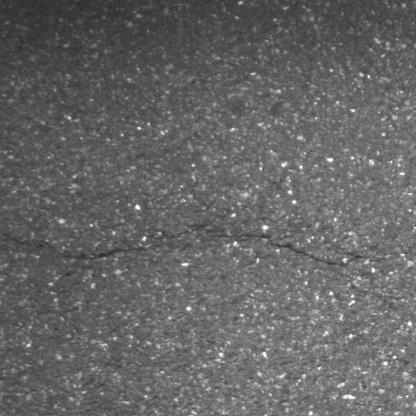Cracks: (0, 225, 158, 267), (211, 229, 343, 272)
